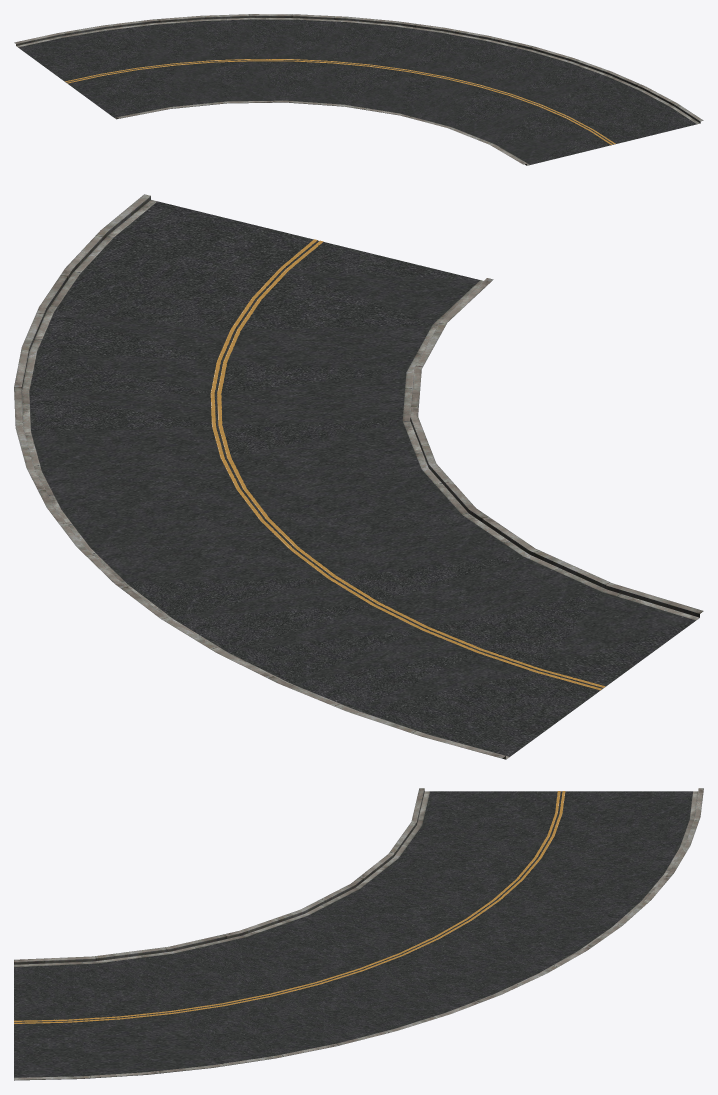
The model's file is Road Turn.fbx.
3 views of the same model, one above another, from view 1: azimuth 30°, elevation 25°; view 2: azimuth 150°, elevation 25°; view 3: azimuth 270°, elevation 25° (orthographic). The views are drawn at different scales.
Parts seen in each view (by area): view 1: road_turn_l_model; view 2: road_turn_l_model; view 3: road_turn_l_model.
Part boxes in pixels (x1,y1,x2,y2): road_turn_l_model: (14, 14, 703, 165); road_turn_l_model: (14, 194, 703, 759); road_turn_l_model: (14, 788, 703, 1080).
Bounding box in the file's own units: 2520 × 11 × 2520.
